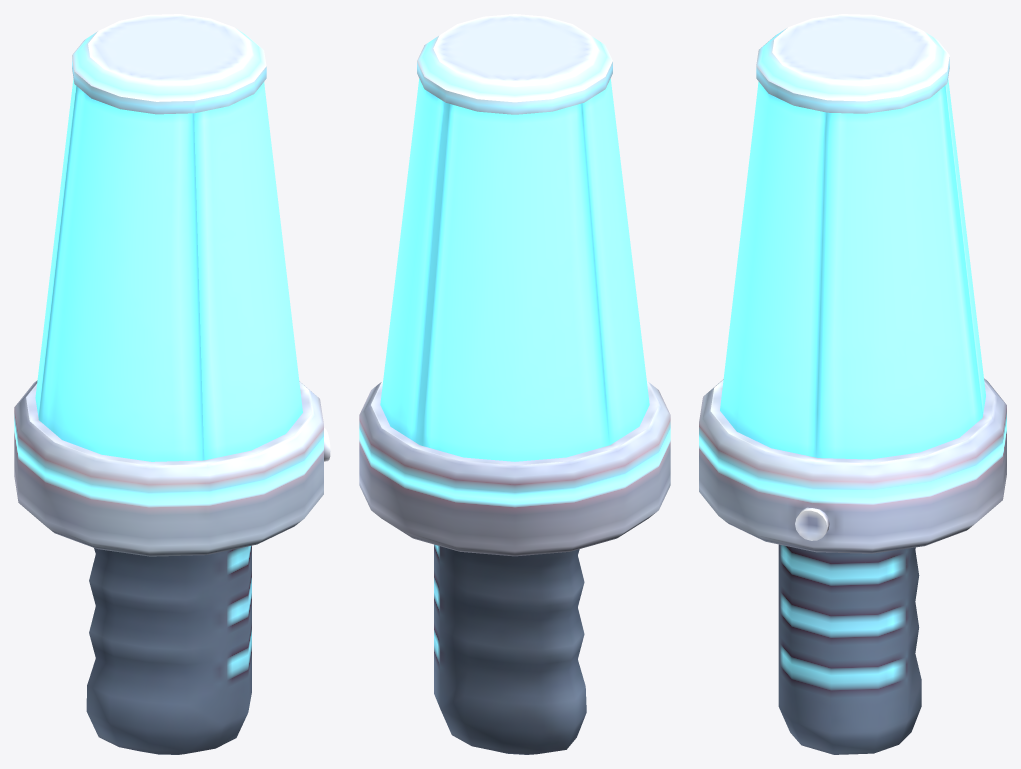
Rendered from obj_torch.gltf.
3 views of the same model, side by side, from view 1: azimuth 30°, elevation 25°; view 2: azimuth 150°, elevation 25°; view 3: azimuth 270°, elevation 25° (orthographic).
Visible parts, largest first — view 1: obj_torch; view 2: obj_torch; view 3: obj_torch.
Boxes of the visible parts, bbox=[...] form: obj_torch: bbox=[14, 14, 330, 754]; obj_torch: bbox=[359, 14, 670, 754]; obj_torch: bbox=[699, 14, 1006, 754].
Size of what is drawn, in the model's own units: 0.3902 by 0.9427 by 0.3822.
Materials: 1 (1 with a texture image).
